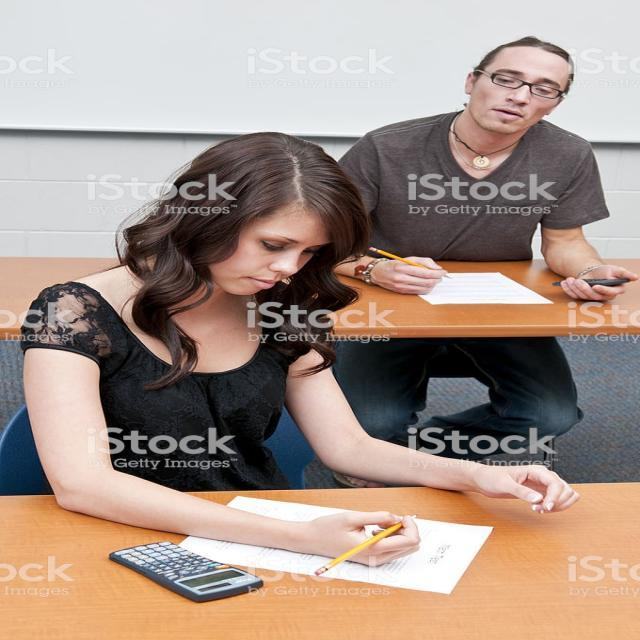cheating: (340, 29, 640, 314)
good: (22, 126, 430, 577)
